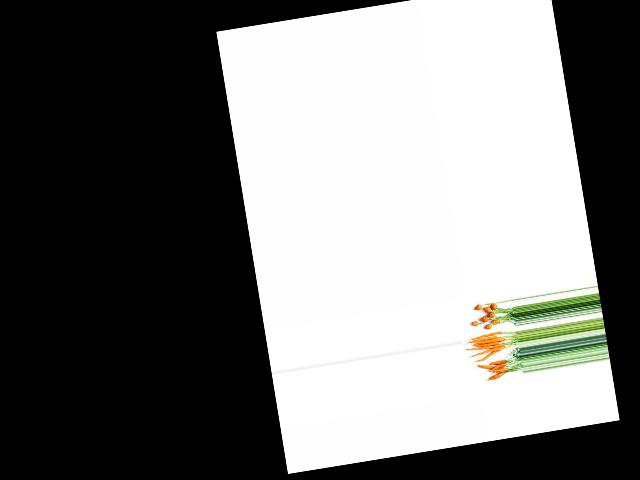carrot: (471, 303, 482, 313)
